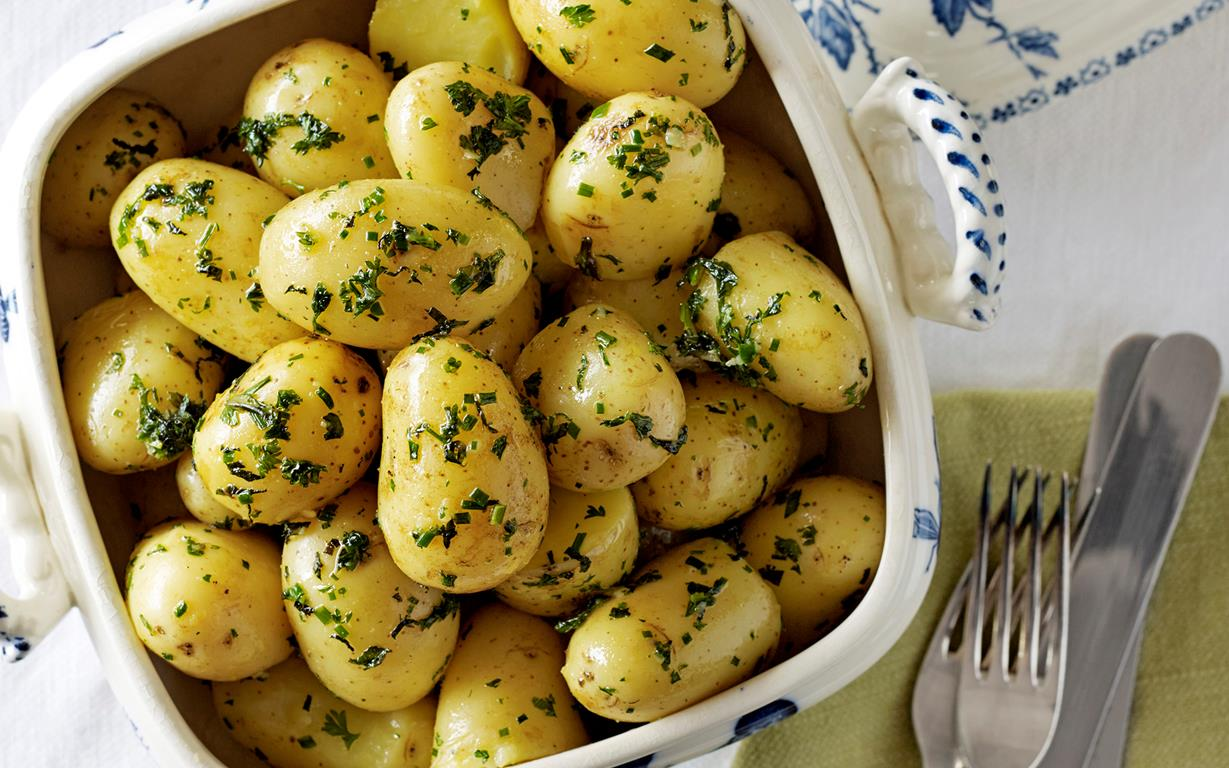boiled potatoes: (370, 339, 537, 589), (267, 177, 528, 331), (547, 95, 751, 272), (114, 176, 311, 353), (289, 507, 447, 723), (592, 549, 783, 718), (684, 231, 867, 407), (522, 302, 679, 472), (198, 357, 374, 501), (503, 1, 734, 109), (71, 292, 210, 456), (231, 39, 395, 177), (137, 525, 286, 674), (436, 619, 580, 764), (400, 68, 545, 209), (668, 379, 789, 536), (760, 478, 895, 614), (50, 94, 181, 234), (512, 488, 649, 617), (369, 1, 506, 67)
